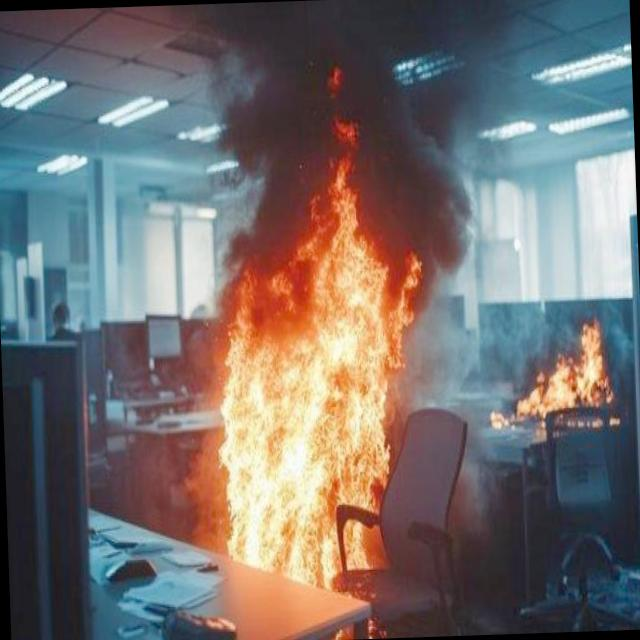Fire_Dangerous: (208, 171, 424, 595)
